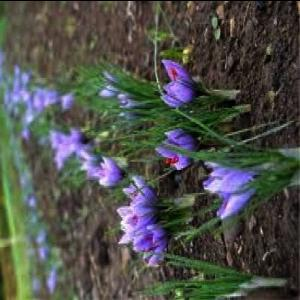Saffron: (204, 162, 266, 220), (154, 126, 205, 171), (120, 179, 168, 226), (161, 58, 204, 106), (136, 222, 176, 260), (101, 158, 127, 188), (66, 126, 91, 148)
